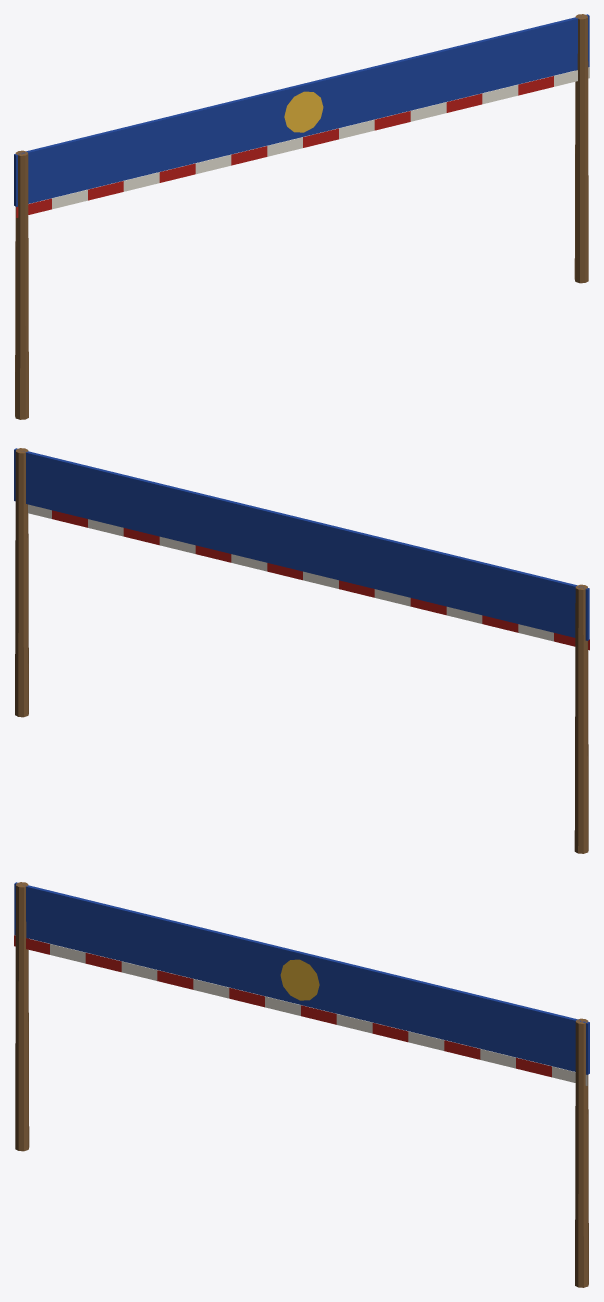
Rendered from Race_Arch.obj.
3 renders of one model, top to bottom at view 1: azimuth 30°, elevation 25°; view 2: azimuth 150°, elevation 25°; view 3: azimuth 330°, elevation 25°, orthographic.
Visible parts, largest first — view 1: Race_Arch; view 2: Race_Arch; view 3: Race_Arch.
Boxes of the visible parts, x1,y1,x2,y2 form: Race_Arch: [14, 14, 589, 419]; Race_Arch: [14, 448, 589, 853]; Race_Arch: [14, 882, 589, 1287].
Size of the model in its own units: 8.2 by 3.6 by 0.18.
